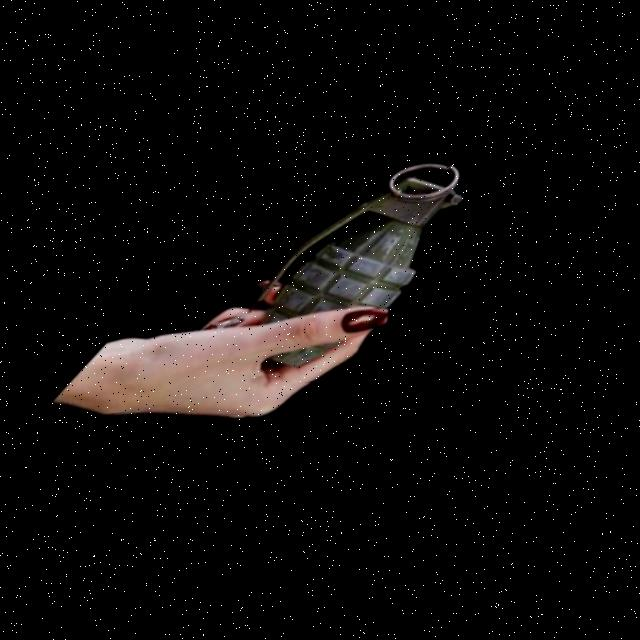grenade: (205, 149, 505, 405)
